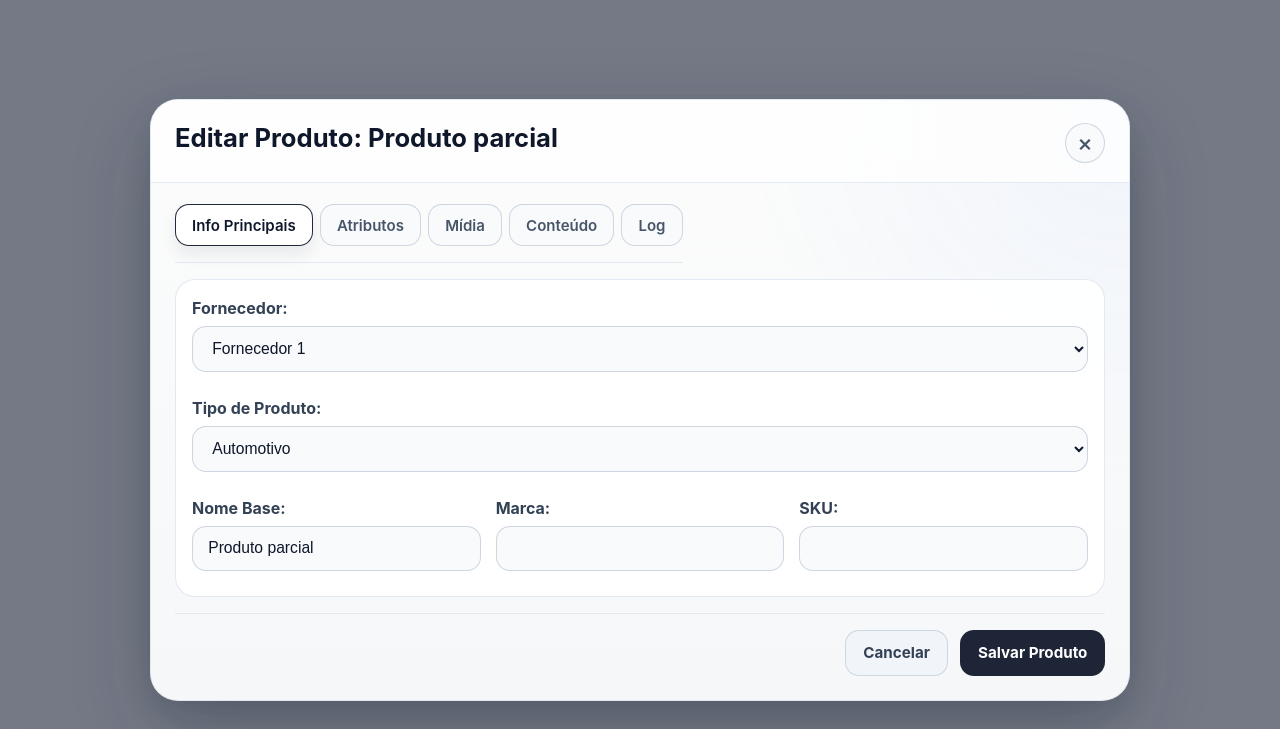
Test: ProductEditModal › keeps the content tab active after the full product payload arrives asynchronously
Check: the field labelled "Nome Base:" is shown, box [192,526,481,571]
Click the button "Conteúdo". click: (562, 225)
box: [509,204,614,246]
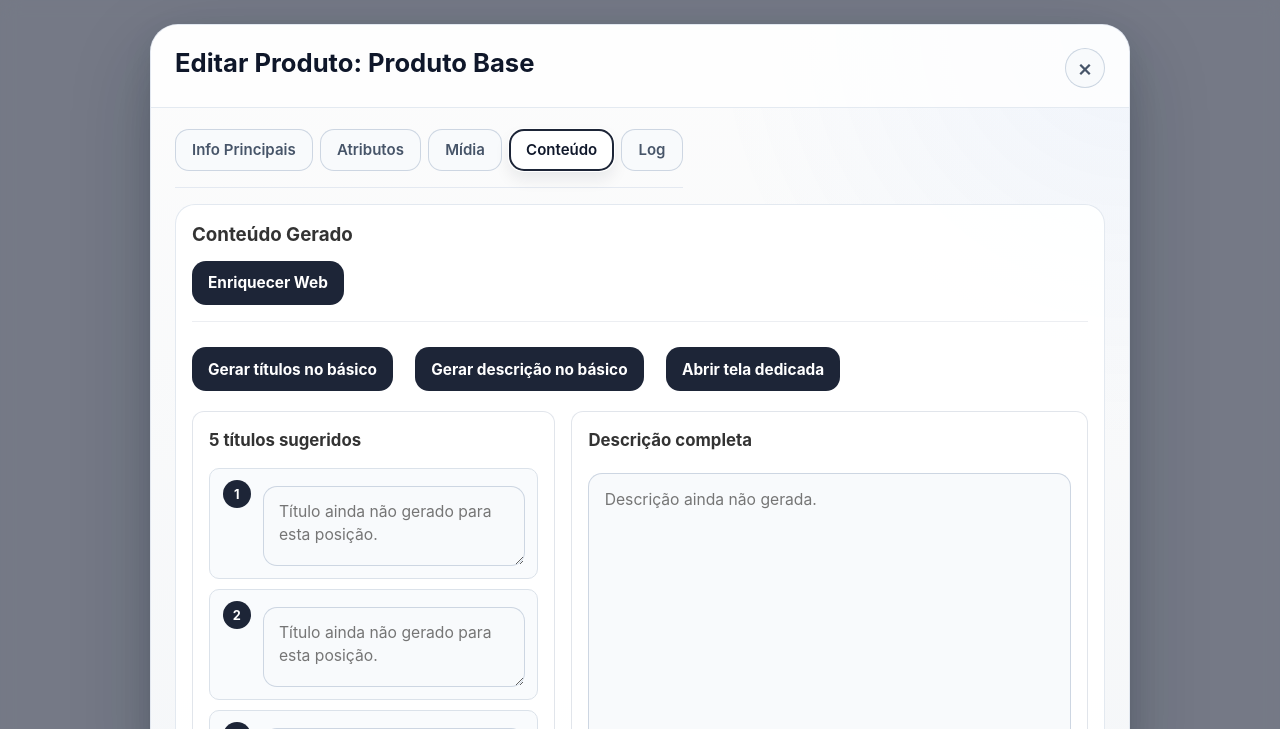
Check: the button "Enriquecer Web" is shown, box [192,261,344,305]
Check: the button "Gerar títulos no básico" is shown, box [192,347,393,391]
